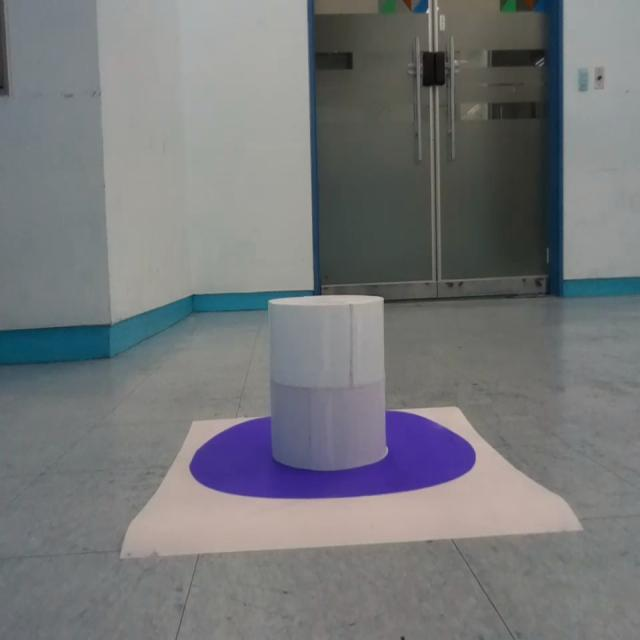cylinder: (268, 294, 388, 472)
